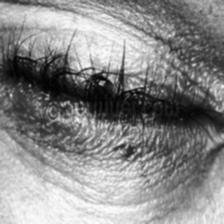Non-Cancerous Skin Condition: (50, 130, 190, 164)
